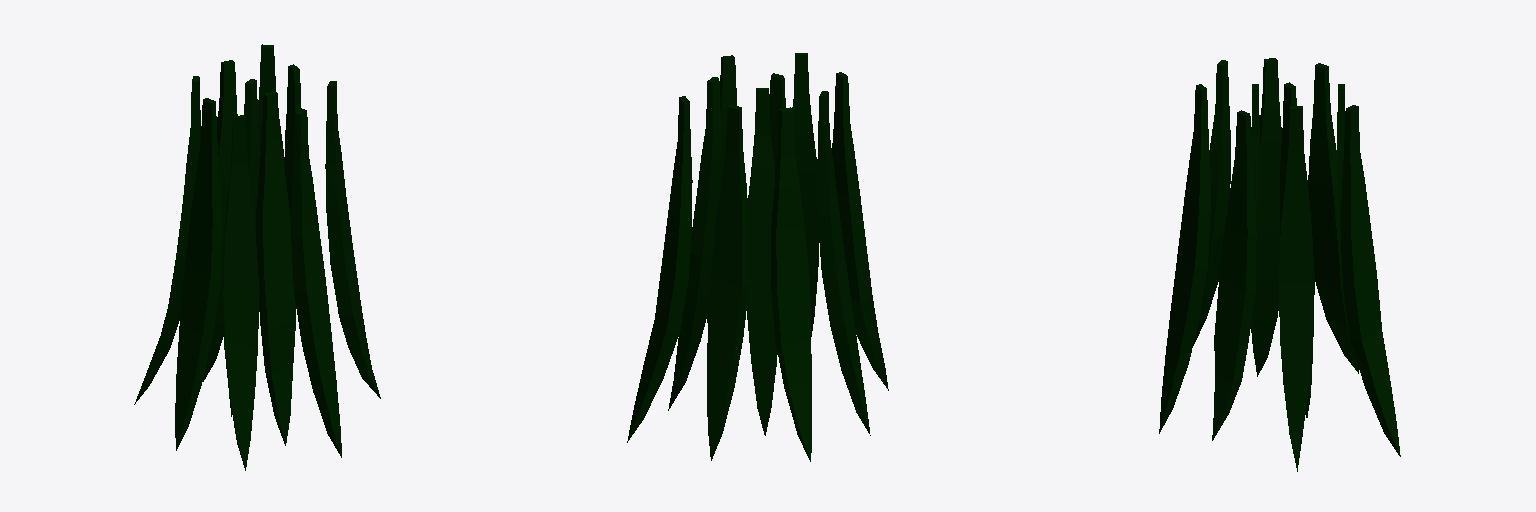
Rendered from Brush.obj.
3 views of the same model, side by side, from view 1: azimuth 30°, elevation 25°; view 2: azimuth 150°, elevation 25°; view 3: azimuth 270°, elevation 25° (orthographic).
Visible parts, largest first — view 1: Brush.001_Plane.007; view 2: Brush.001_Plane.007; view 3: Brush.001_Plane.007.
Part boxes in pixels (x1,y1,x2,y2): Brush.001_Plane.007: (134,44,380,470); Brush.001_Plane.007: (627,53,888,461); Brush.001_Plane.007: (1159,58,1400,471).
Size of the model in its own units: 0.4826 by 0.8671 by 0.5525.